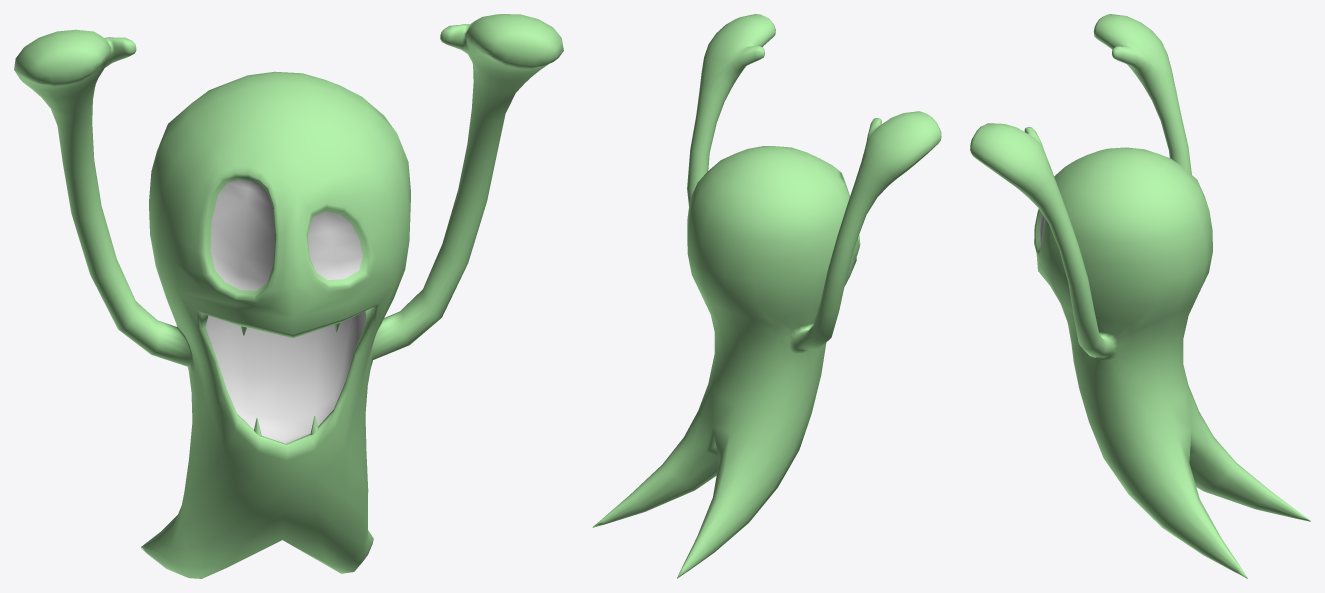
File: GreenGhost.fbx
The picture shows the model from 3 angles, left to right: view 1: azimuth 30°, elevation 25°; view 2: azimuth 150°, elevation 25°; view 3: azimuth 270°, elevation 25°; orthographic projection. The views are drawn at different scales.
Parts seen in each view (by area): view 1: Greenie_Low, Mouth, Eyes; view 2: Greenie_Low; view 3: Greenie_Low.
Part boxes in pixels (x1=…): Greenie_Low: x1=14, y1=14, x2=563, y2=578; Mouth: x1=205, y1=311, x2=366, y2=443; Eyes: x1=210, y1=179, x2=362, y2=290; Greenie_Low: x1=592, y1=14, x2=941, y2=578; Greenie_Low: x1=970, y1=14, x2=1310, y2=578.
Size of the model in its own units: 153 by 220 by 157.
